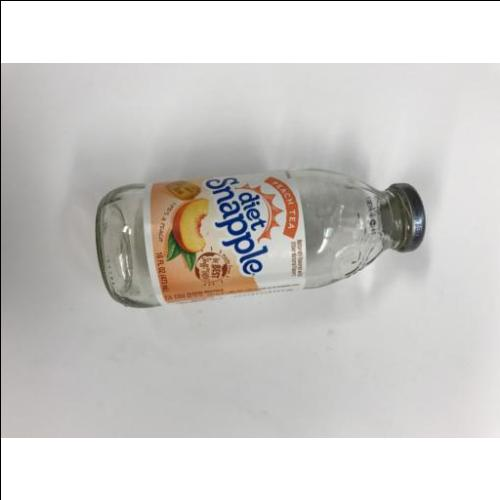glass: (92, 177, 427, 303)
